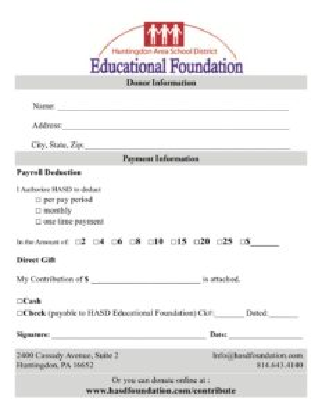checkbox: (32, 216, 43, 226), (33, 194, 43, 204), (90, 237, 100, 247), (168, 236, 177, 247), (15, 308, 24, 319), (110, 237, 119, 247), (146, 237, 155, 247), (128, 236, 136, 247), (15, 297, 24, 306), (214, 237, 222, 247), (72, 237, 80, 245), (35, 205, 42, 214), (239, 237, 245, 247), (193, 237, 200, 245)
textline: (57, 96, 291, 112), (62, 118, 291, 133), (83, 137, 293, 151), (51, 329, 207, 340), (90, 275, 201, 286), (227, 329, 302, 341), (214, 308, 247, 319), (251, 236, 279, 248), (269, 308, 297, 319)
